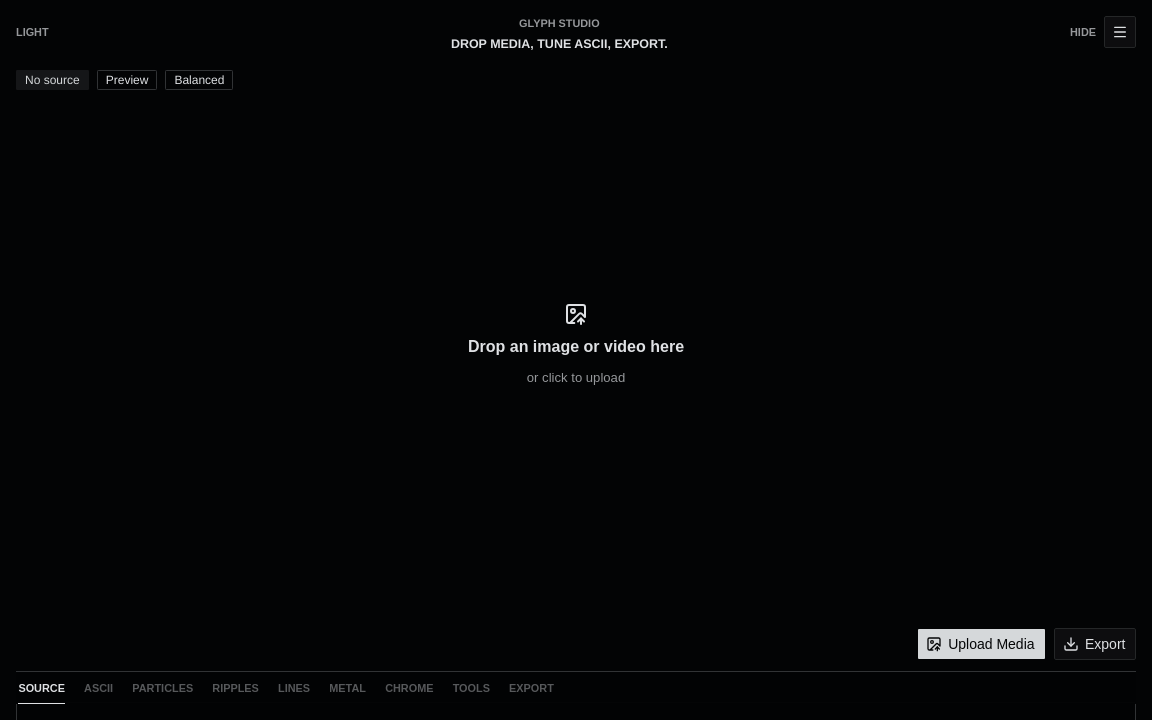
Scenario: Glyph Studio app shell › shows feedback sent and retry states with captured technical details
This screenshot has width=1152, height=720.
Click the button named "Menu".
click(1120, 32)  # box [1104, 16, 1136, 48]
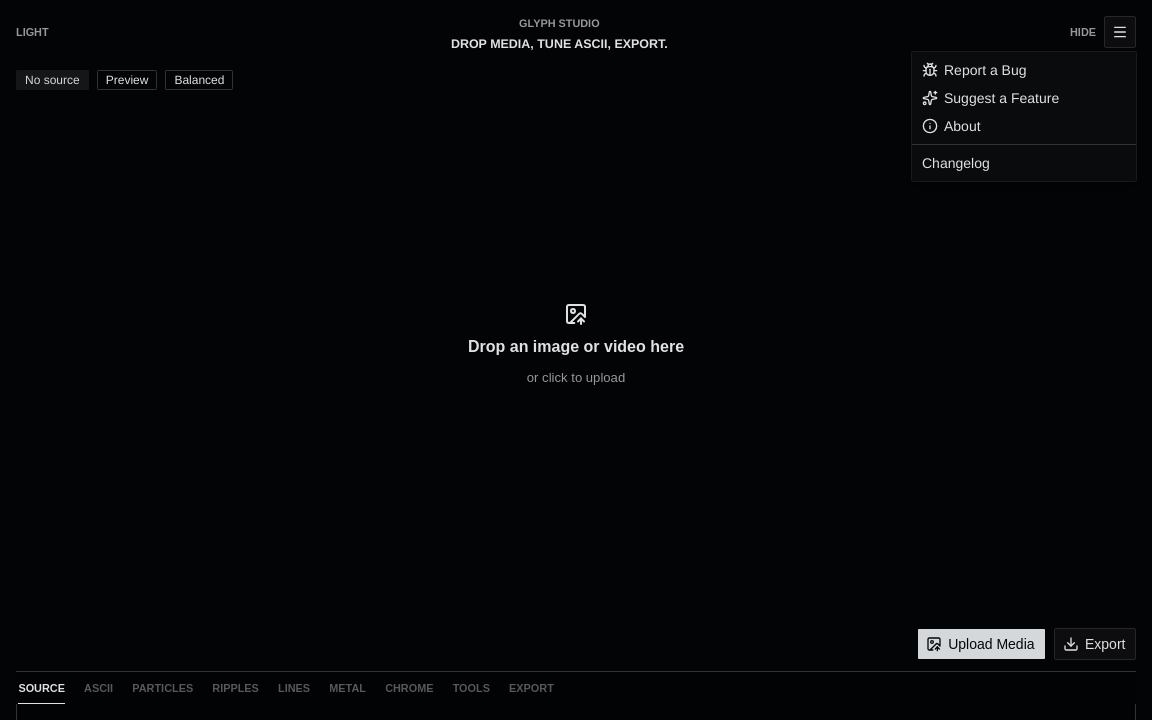
Click the menu item "Report a Bug".
click(974, 70)  # box [922, 62, 1026, 78]
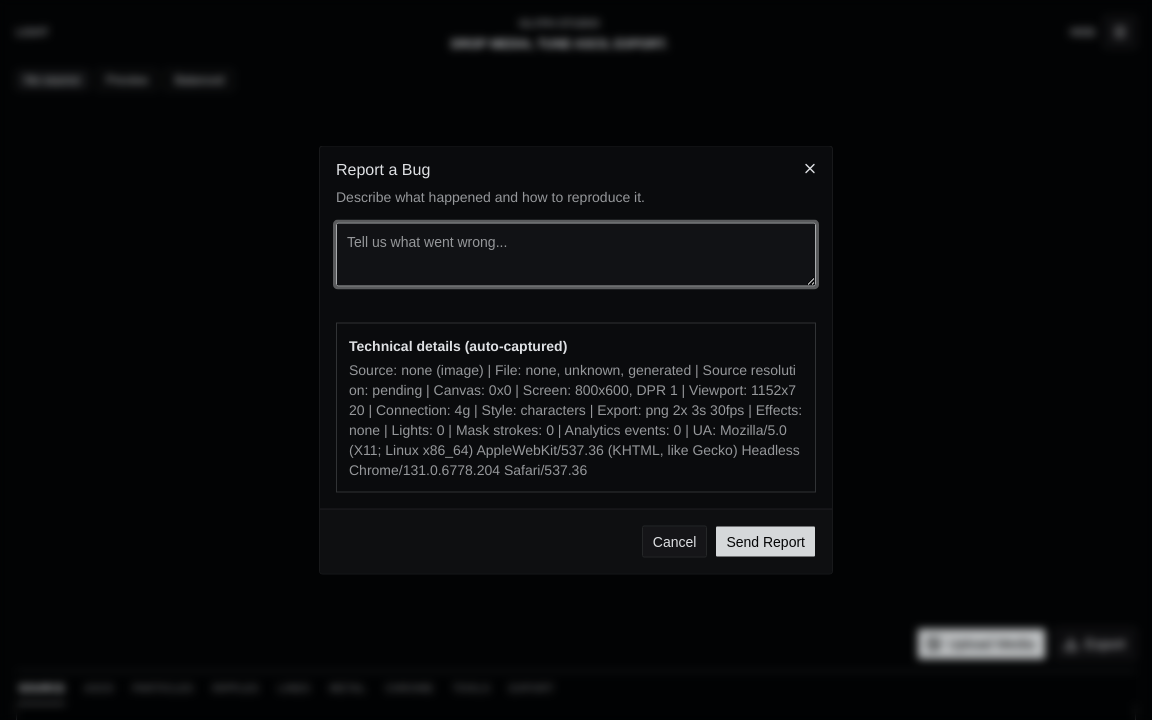
Check: the heading "Technical details (auto-captured)" is shown, box [349, 338, 567, 354]
Check: the text "Connection:" is shown, box [349, 362, 802, 478]
Type "The export button stalls." into the text box with placeholder "Tell us what went wrong...".
click(576, 254); type("The export button stalls.")  # box [336, 222, 816, 286]
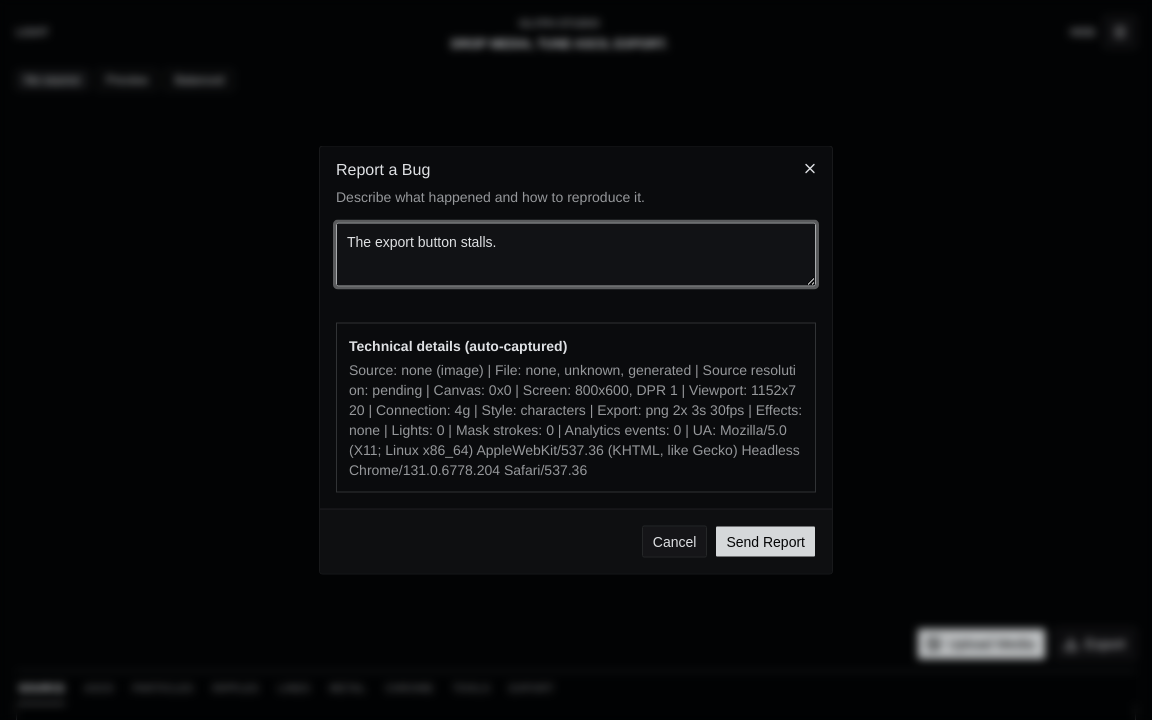
Click the button "Send Report".
click(766, 542)  # box [715, 526, 816, 558]
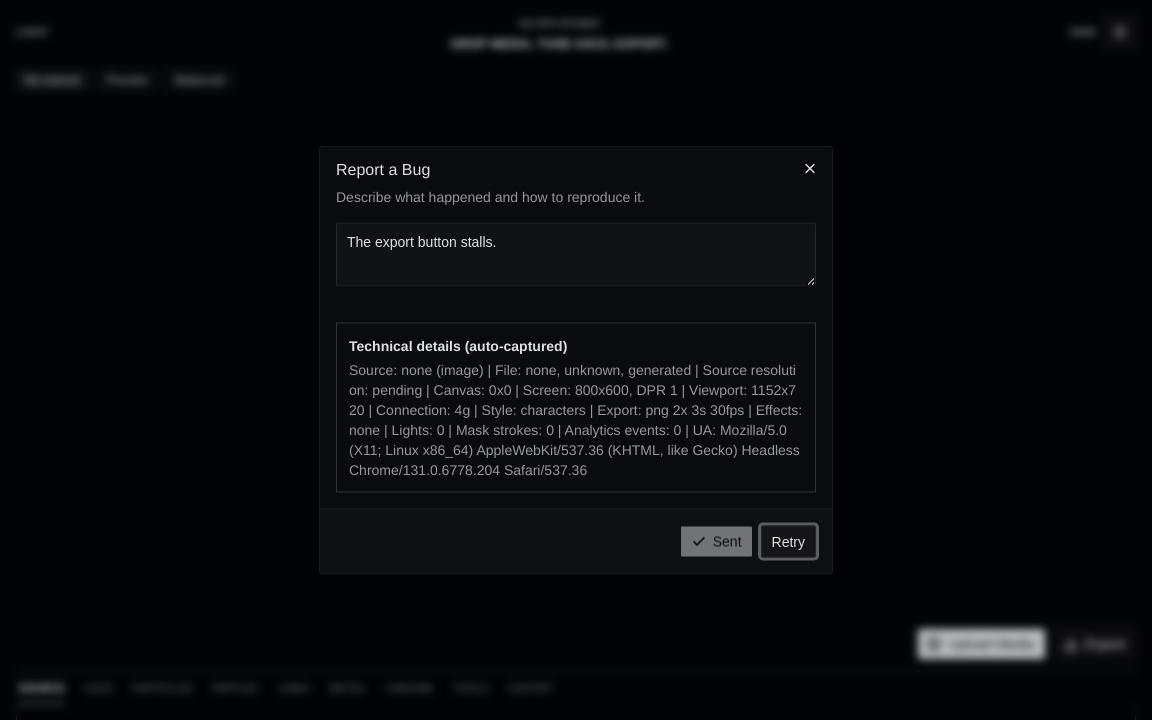
Check: the button "Sent" is shown, box [680, 526, 752, 558]
Check: the button "Retry" is shown, box [760, 526, 816, 558]
